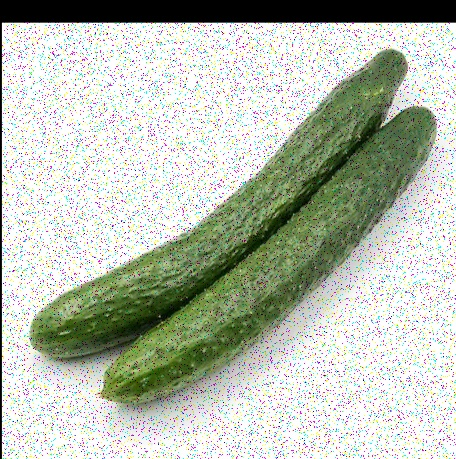cucumber: (35, 56, 409, 359), (105, 100, 431, 405)
